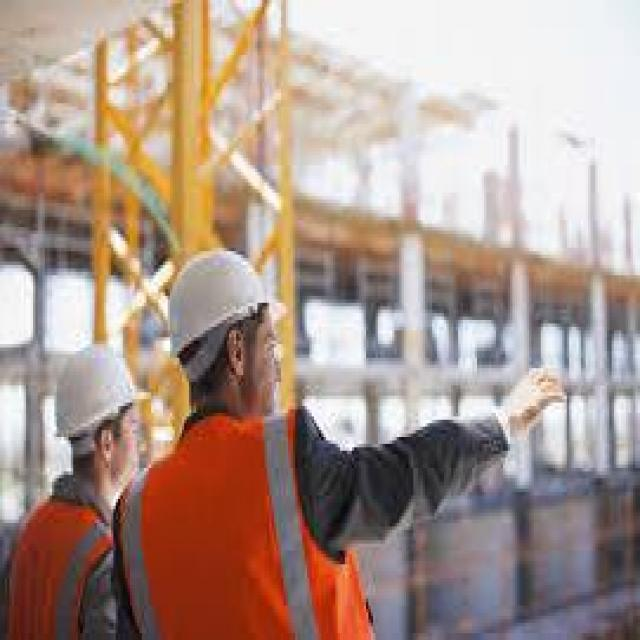Reflective-Jacket: (116, 409, 368, 640), (0, 492, 120, 640)
Safety-Helmet: (158, 241, 288, 365), (45, 330, 153, 451)
